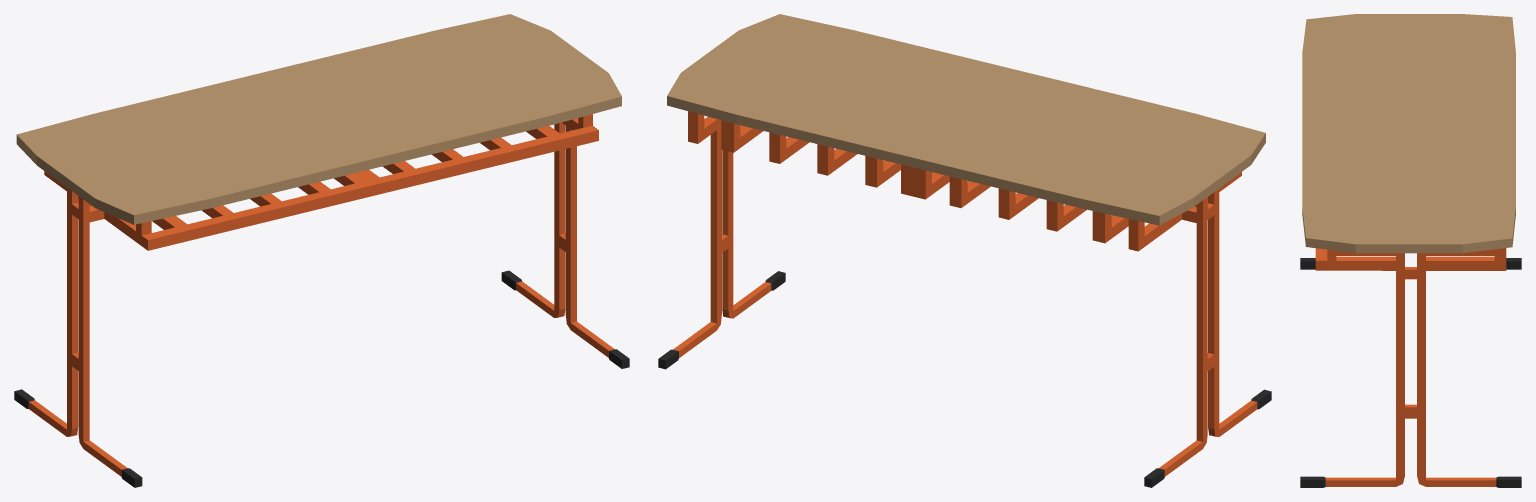
The model's file is stol_7.fbx.
3 renders of one model, left to right at view 1: azimuth 30°, elevation 25°; view 2: azimuth 150°, elevation 25°; view 3: azimuth 270°, elevation 25°, orthographic. The views are drawn at different scales.
Parts seen in each view (by area): view 1: stol_3.001; view 2: stol_3.001; view 3: stol_3.001.
Boxes of the visible parts, x1,y1,x2,y2 form: stol_3.001: (14, 14, 629, 487); stol_3.001: (658, 14, 1271, 487); stol_3.001: (1300, 14, 1521, 487).
Size of the model in its own units: 208 by 104 by 84.33.
